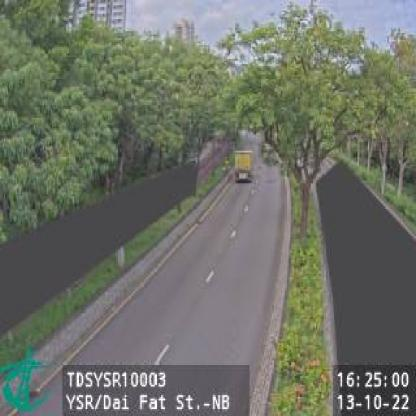Truck: (235, 148, 255, 184)
